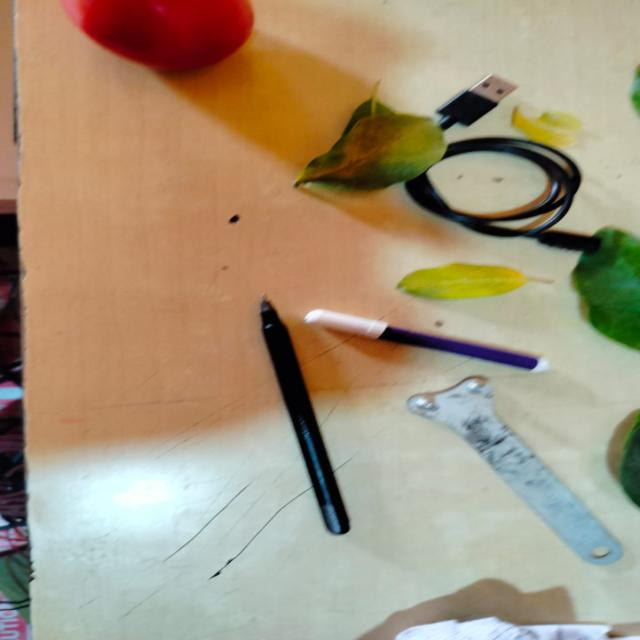Leaves: (296, 105, 444, 196), (575, 227, 640, 356), (394, 263, 556, 302), (604, 408, 640, 513)
Metal: (405, 378, 623, 570)
Paper: (356, 605, 640, 640)
Pen: (259, 299, 350, 538), (305, 311, 548, 374)
tomato: (57, 0, 257, 76)
